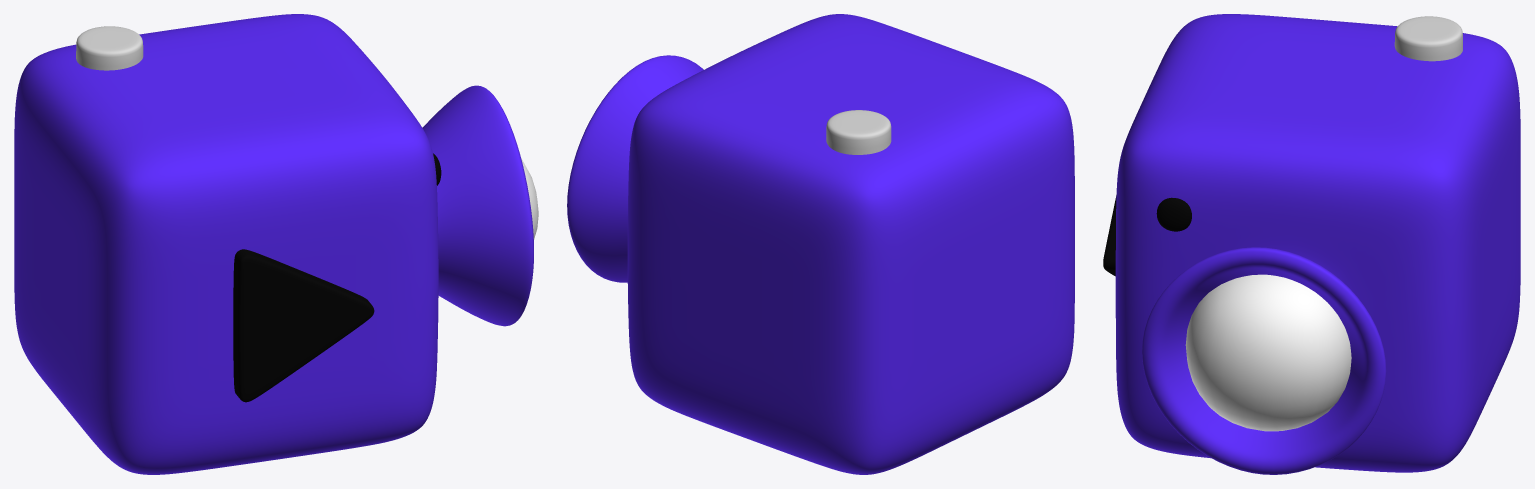
The model's file is video-cam.glb.
3 renders of one model, left to right at view 1: azimuth 30°, elevation 25°; view 2: azimuth 150°, elevation 25°; view 3: azimuth 270°, elevation 25°, orthographic. The views are drawn at different scales.
Parts seen in each view (by area): view 1: Cube.020; view 2: Cube.020; view 3: Cube.020.
Part boxes in pixels (x1=…): Cube.020: x1=14, y1=14, x2=538, y2=474; Cube.020: x1=567, y1=14, x2=1074, y2=474; Cube.020: x1=1103, y1=14, x2=1520, y2=474.
Size of the model in its own units: 1.97 by 1.44 by 1.55.
